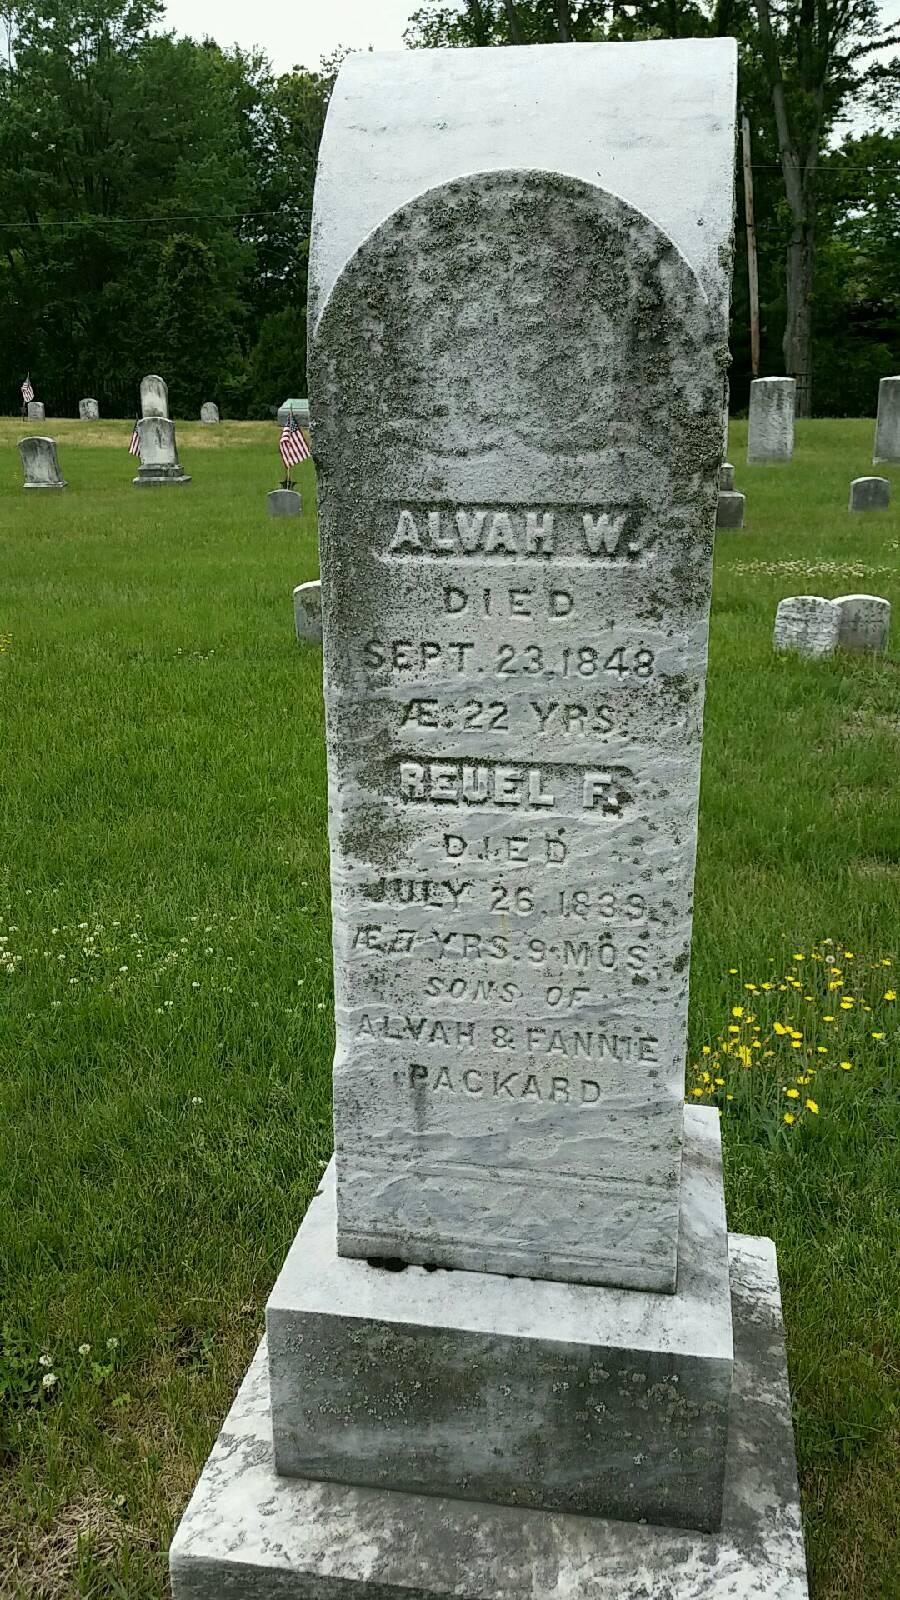obelisk: (316, 32, 740, 1305)
